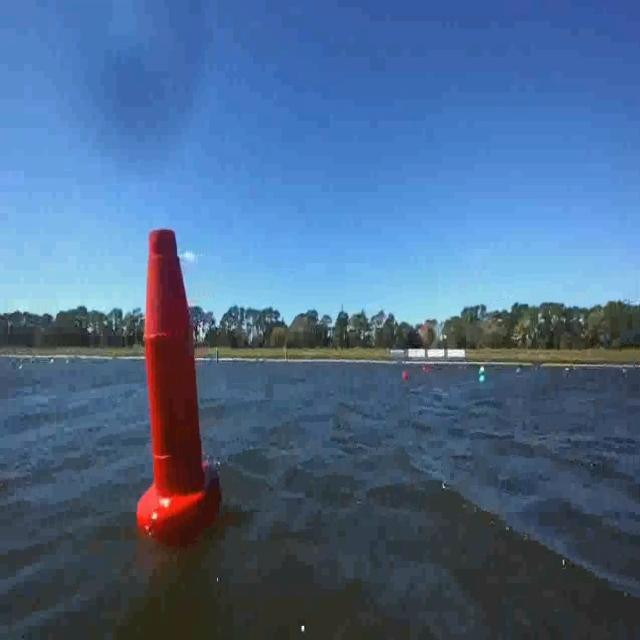green-buoy: (479, 368, 487, 386)
red-buoy: (404, 368, 410, 382)
red-column-buoy: (138, 226, 220, 531)
